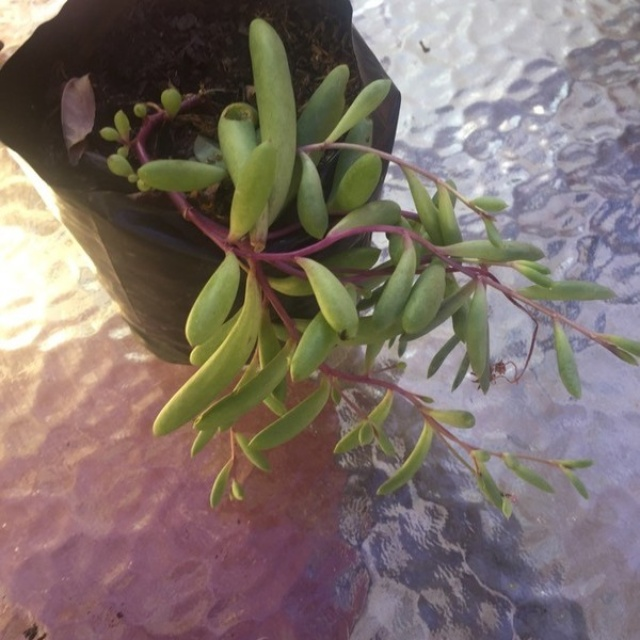obstacle: (54, 10, 577, 510)
